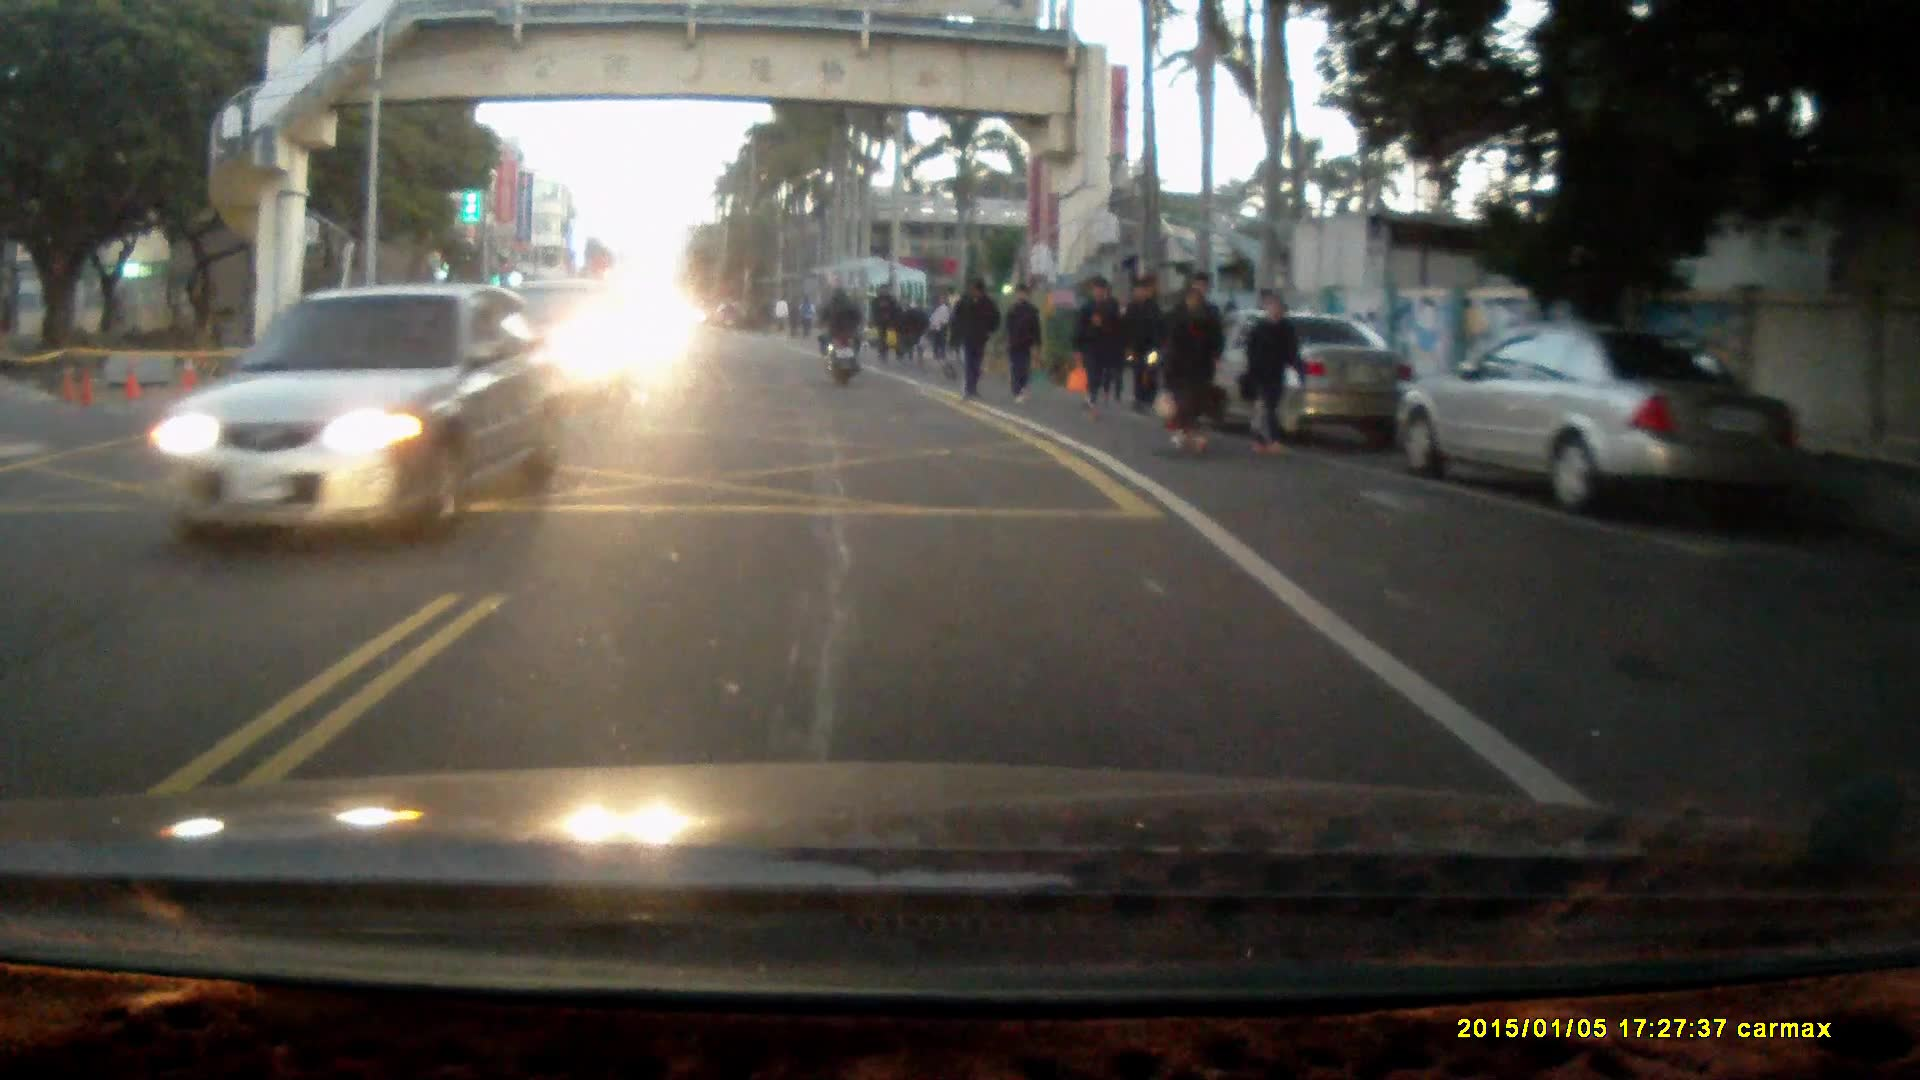pedestrian: (1239, 289, 1308, 456), (1164, 283, 1222, 447), (1069, 276, 1118, 424), (949, 273, 1001, 398), (1128, 273, 1170, 412), (999, 279, 1045, 404), (867, 282, 897, 363), (925, 288, 953, 366), (892, 291, 921, 364)
rider: (816, 283, 865, 387)
vehicle: (136, 282, 569, 547), (1393, 317, 1803, 515), (1163, 313, 1421, 437)
